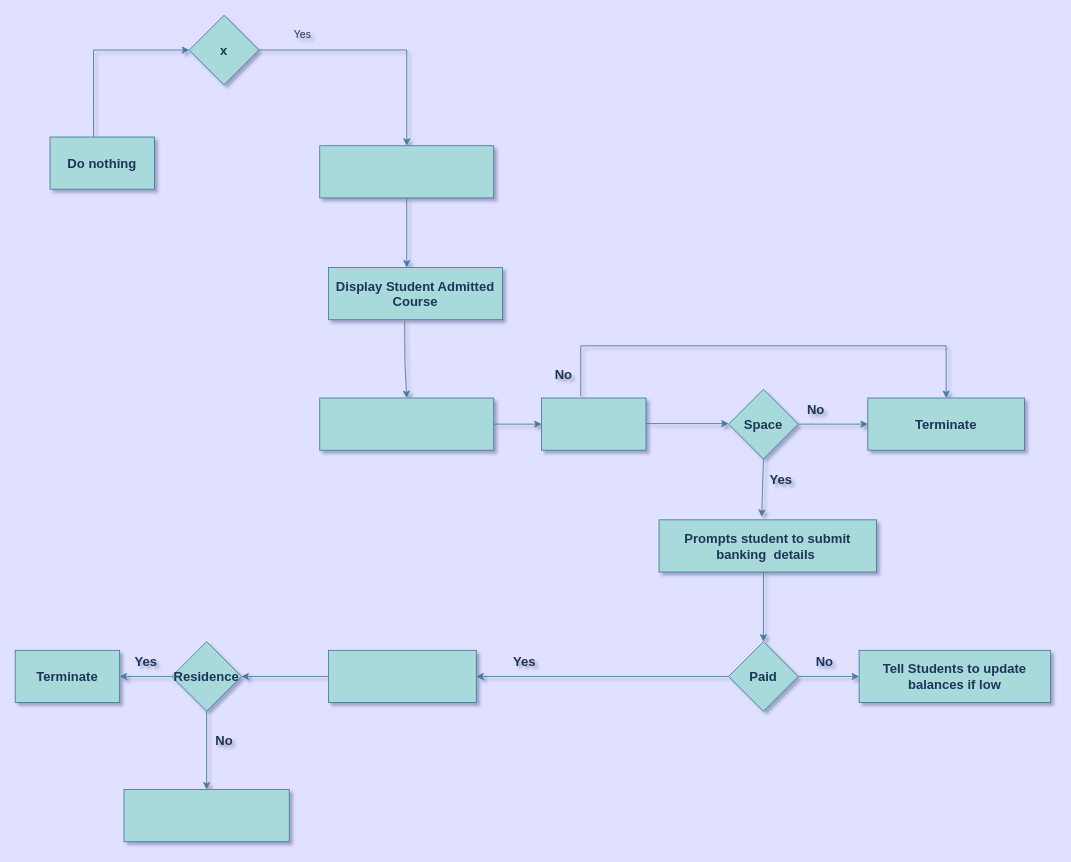
This 1071x862 diagram has some shape labels left out. The shapes that lost their labels are listed below. From the top down, each one's centre as x and y in pixels, then its label:
point 406,171: Send WhatsApp Text
point 406,423: Allow Students to pick subjects
point 593,423: Validation
point 402,676: Generate POR
point 206,815: Display available residences
